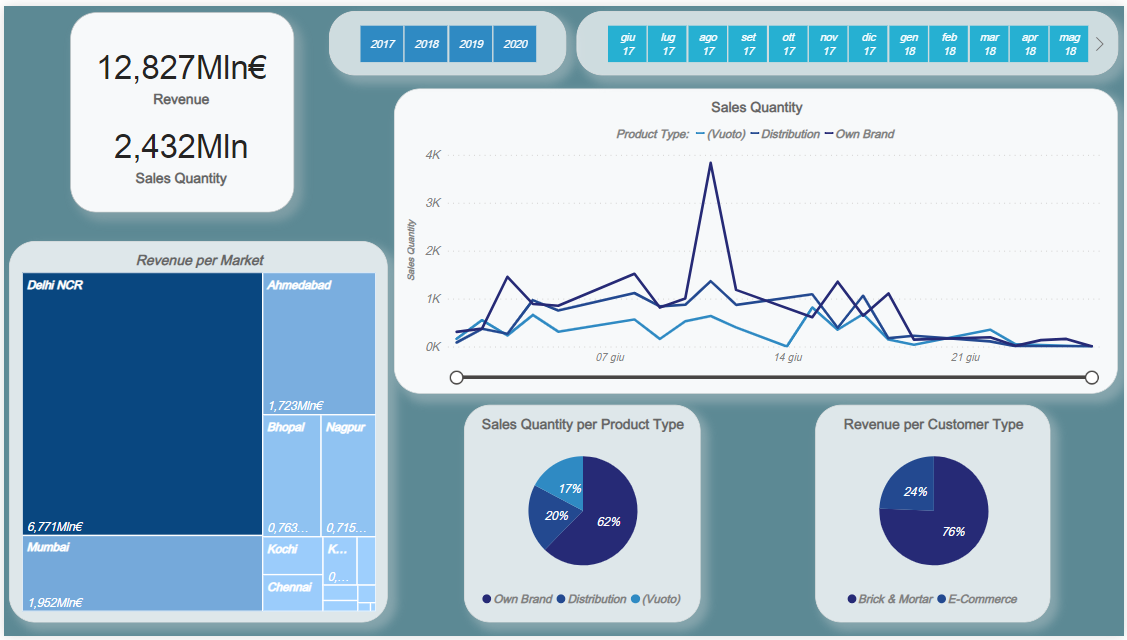

The dashboard page shown, as its layout file describes it:
{"tool":"powerbi","page":{"name":"Pagina 2","canvas":[1280,720],"ordinal":1},"visuals":[{"type":"shape","box":[76.2,7.5,256.2,228.8],"z":0},{"type":"card","fields":{"Values":["transactions.Revenue"]},"box":[96.2,36.2,213.8,86.2],"z":1000},{"type":"card","fields":{"Values":["transactions.Sales Quantity"]},"box":[96.2,126.2,213.8,86.2],"z":2000},{"type":"treemap","title":"Revenue per Market","fields":{"Group":["markets.market_name"],"Values":["transactions.Revenue"]},"box":[5,268.8,432.5,436.2],"z":3000},{"type":"pieChart","title":"Revenue per Customer Type","fields":{"Y":["transactions.Revenue"],"Category":["customers.customer_type"]},"box":[927.5,456.2,268.8,248.8],"z":4000},{"type":"pieChart","title":"Sales Quantity per Product Type","fields":{"Y":["transactions.Sales Quantity"],"Category":["products.product_type"]},"box":[526.2,456.2,270,248.8],"z":5000},{"type":"lineChart","title":"Sales Quantity","fields":{"Category":["distinct_date.date"],"Series":["products.product_type"],"Y":["transactions.Sales Quantity"]},"box":[446.2,93.8,827.5,348.8],"z":6000},{"type":"slicer","fields":{"Values":["distinct_date.year"]},"box":[371,6.2,270.9,73.6],"z":7000},{"type":"slicer","fields":{"Values":["distinct_date.cy_date"]},"box":[654.6,6.2,619.1,73.6],"z":8000}]}

Visuals, with their boxes in screenshot pixels (x1, y1, x2, y2), scaled from the page's 1280x720 canvas onto the 1127x640 screenshot:
shape: [67, 7, 293, 210]
card - transactions.Revenue: [85, 32, 273, 109]
card - transactions.Sales Quantity: [85, 112, 273, 189]
"Revenue per Market" treemap: [4, 239, 385, 627]
"Revenue per Customer Type" pieChart: [817, 406, 1053, 627]
"Sales Quantity per Product Type" pieChart: [463, 406, 701, 627]
"Sales Quantity" lineChart: [393, 83, 1121, 393]
slicer - distinct_date.year: [327, 6, 565, 71]
slicer - distinct_date.cy_date: [576, 6, 1121, 71]
